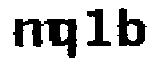1: (84, 5, 112, 50)
b: (114, 4, 148, 51)
m: (9, 16, 55, 51)
q: (52, 16, 80, 60)
